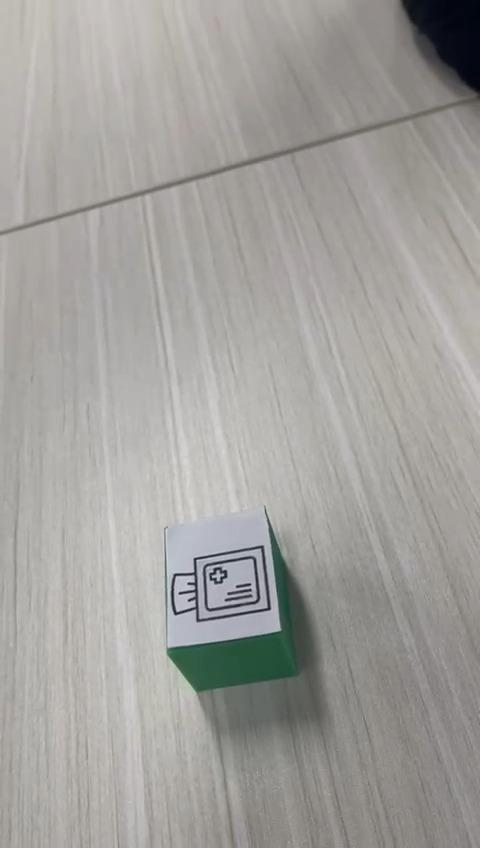Gauze: (162, 503, 299, 693)
